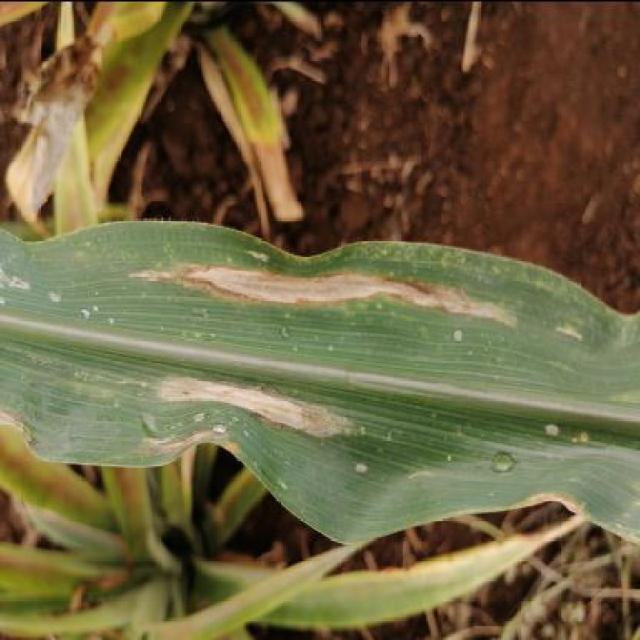Corn_Leaf_Blight: (0, 212, 640, 543)
